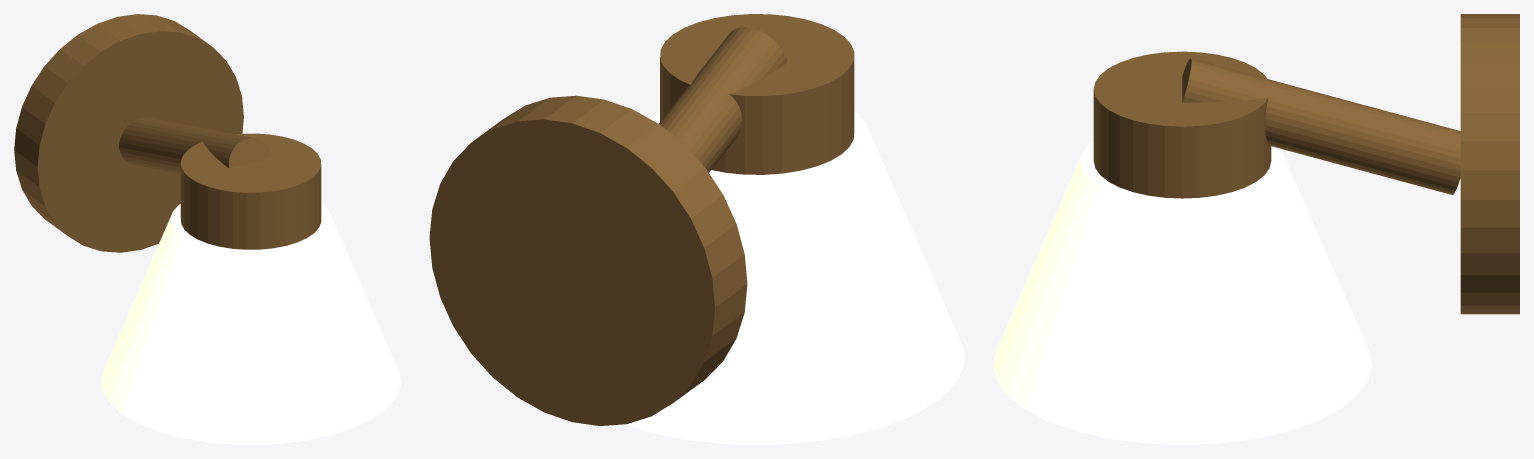
File: ServiceWallLamp.fbx
3 views of the same model, side by side, from view 1: azimuth 30°, elevation 25°; view 2: azimuth 150°, elevation 25°; view 3: azimuth 270°, elevation 25° (orthographic). The views are drawn at different scales.
Parts seen in each view (by area): view 1: Part_BoothLampShade, Part_BoothLampPlate, Part_BoothLampCap, Part_BoothLampArm; view 2: Part_BoothLampPlate, Part_BoothLampShade, Part_BoothLampCap, Part_BoothLampArm; view 3: Part_BoothLampShade, Part_BoothLampCap, Part_BoothLampPlate, Part_BoothLampArm.
Boxes of the visible parts, left/top/right/bottom form: Part_BoothLampShade: left=101, top=204, right=400, bottom=444; Part_BoothLampPlate: left=14, top=14, right=243, bottom=252; Part_BoothLampCap: left=180, top=133, right=321, bottom=249; Part_BoothLampArm: left=119, top=117, right=272, bottom=175; Part_BoothLampPlate: left=429, top=95, right=747, bottom=425; Part_BoothLampShade: left=624, top=111, right=964, bottom=444; Part_BoothLampCap: left=660, top=14, right=854, bottom=174; Part_BoothLampArm: left=659, top=27, right=787, bottom=172; Part_BoothLampShade: left=993, top=140, right=1371, bottom=444; Part_BoothLampCap: left=1093, top=51, right=1271, bottom=198; Part_BoothLampPlate: left=1460, top=14, right=1519, bottom=314; Part_BoothLampArm: left=1182, top=58, right=1460, bottom=194.
Bounding box in the file's own units: 0.32 × 0.314 × 0.445.
